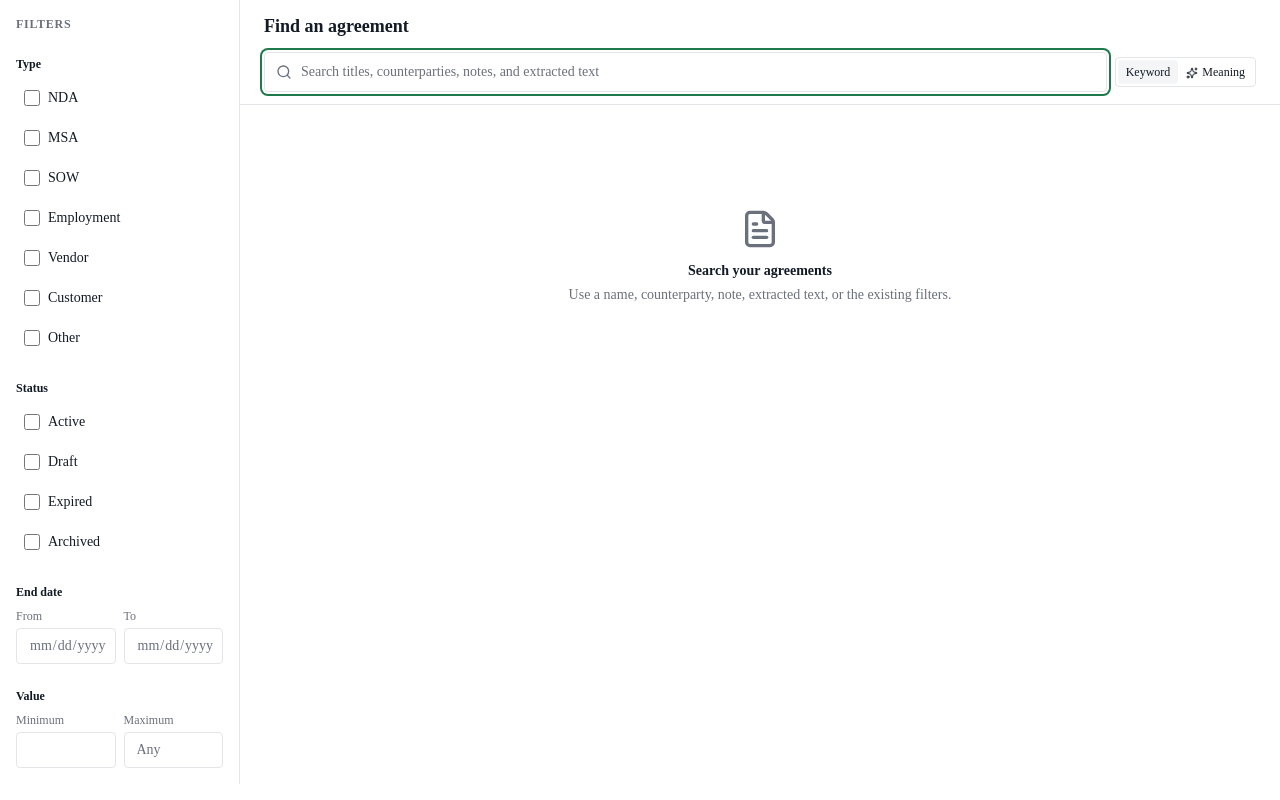
Test case: SearchPage › announces keyword fallback even when the fallback has no matches
The width and height of the screenshot is (1280, 800).
Click the radio button labelled "Meaning" at (1216, 72), box [1178,60,1253,84]
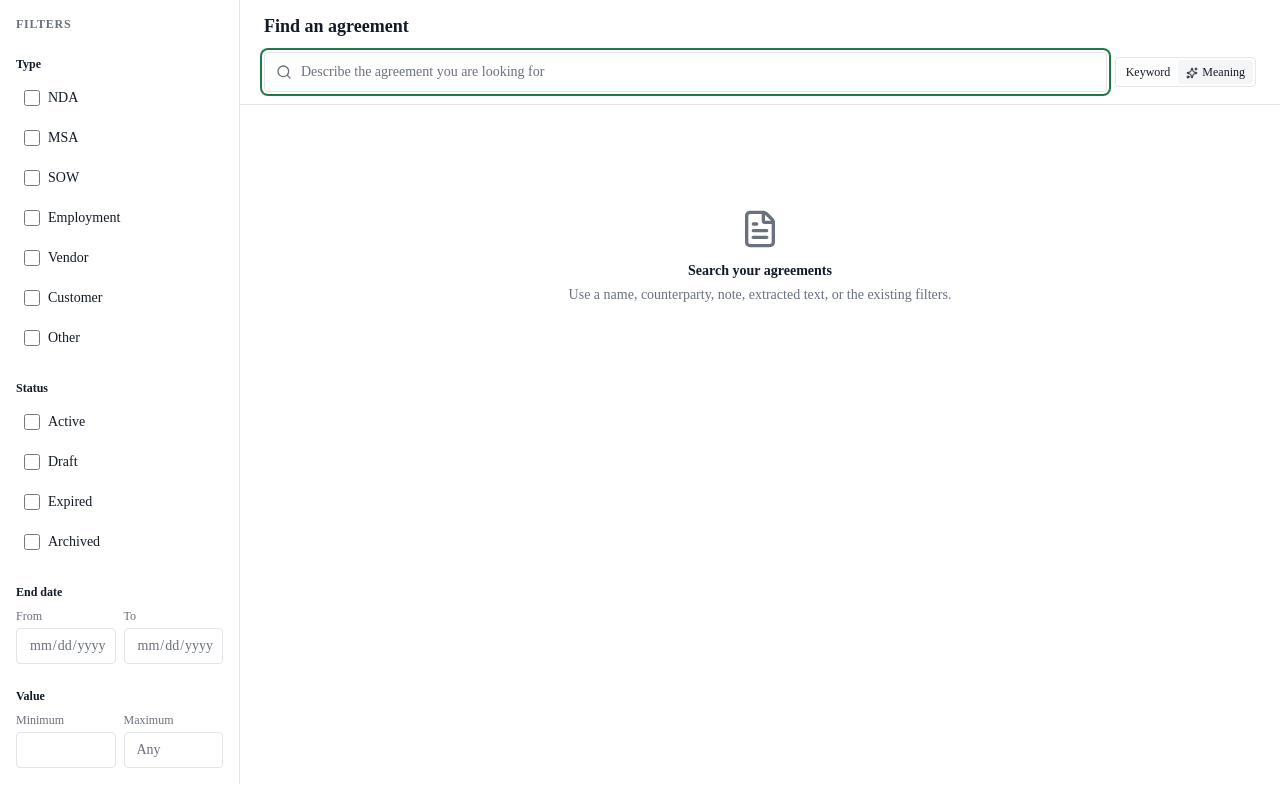
Type "No match" into the search field named "Search agreements" at (685, 72), box [264,52,1107,92]
Wait 300 ms
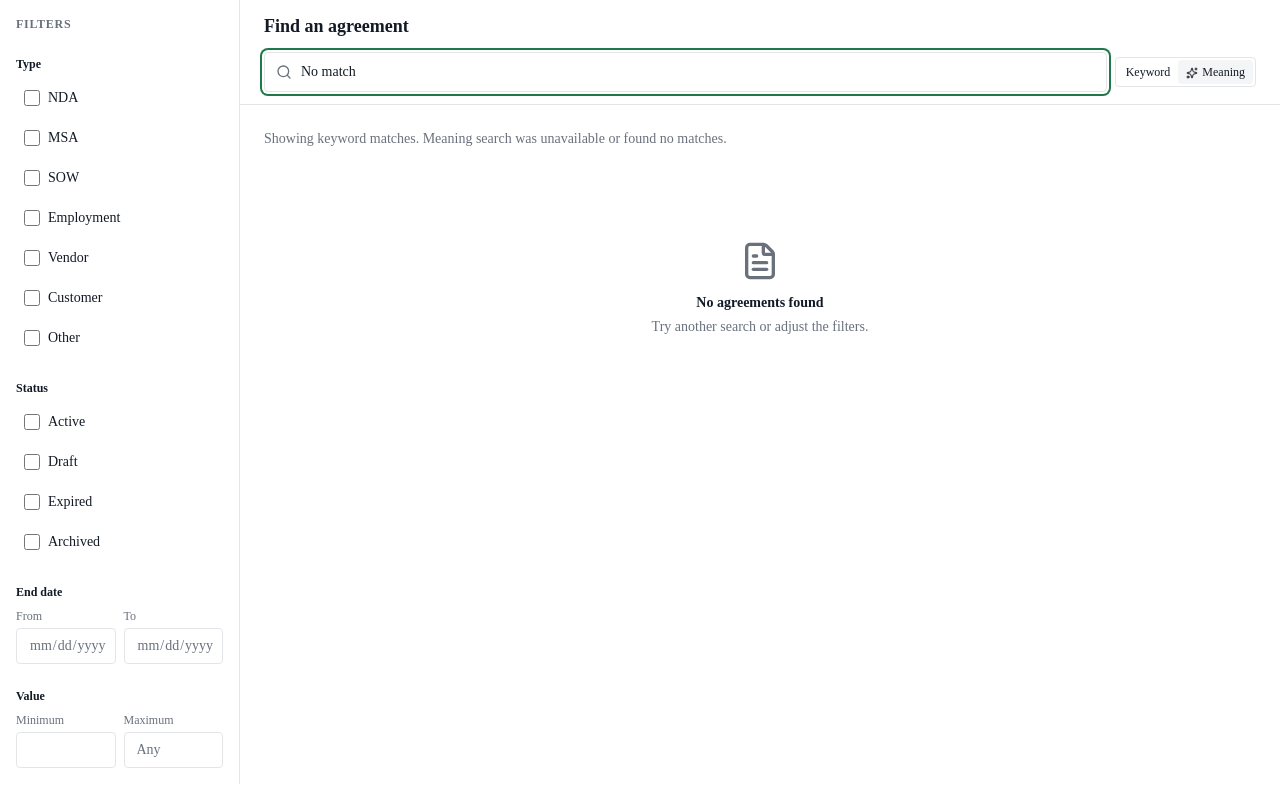
Check: the message reads "Showing keyword matches. Meaning search was unavailable or found no matches.", box [264,131,727,146]
Check: the heading "No agreements found" is shown, box [696,293,824,313]
